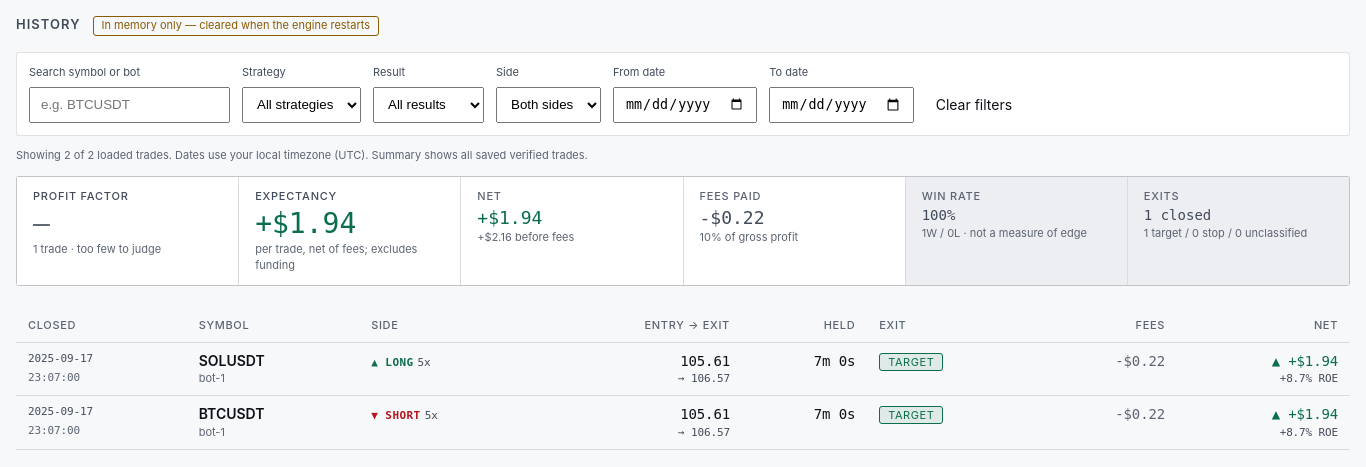
Test: combines search, strategy and side and explains invalid dates
This screenshot has width=1366, height=467.
Type "btc" into the search field labelled "Search symbol or bot" at {"x": 130, "y": 105}, box [29, 87, 230, 123]
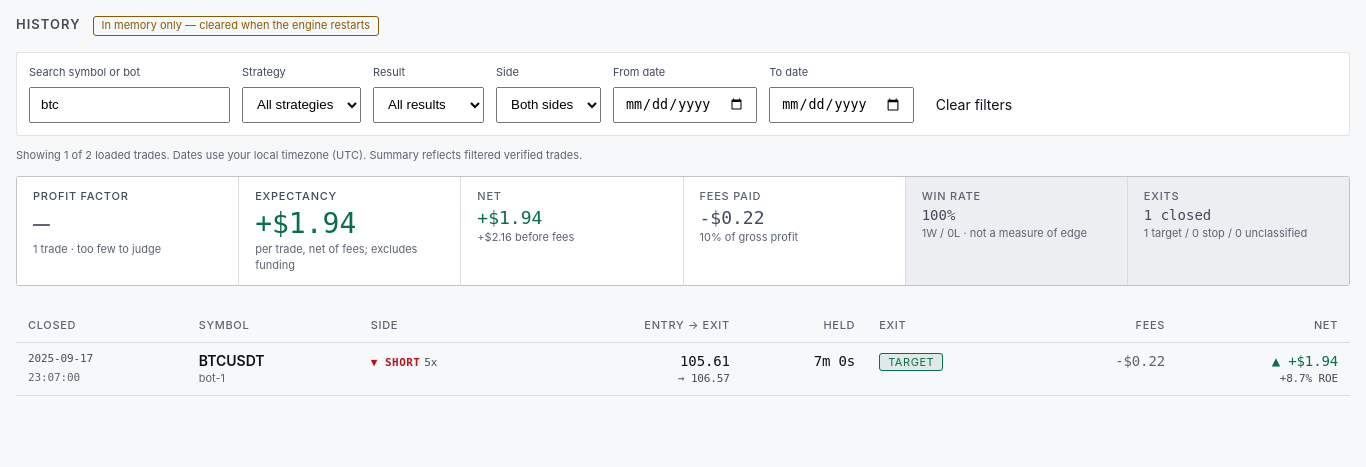
Select "other" in the dropdown labelled "Strategy" at {"x": 302, "y": 105}, box [242, 87, 361, 123]
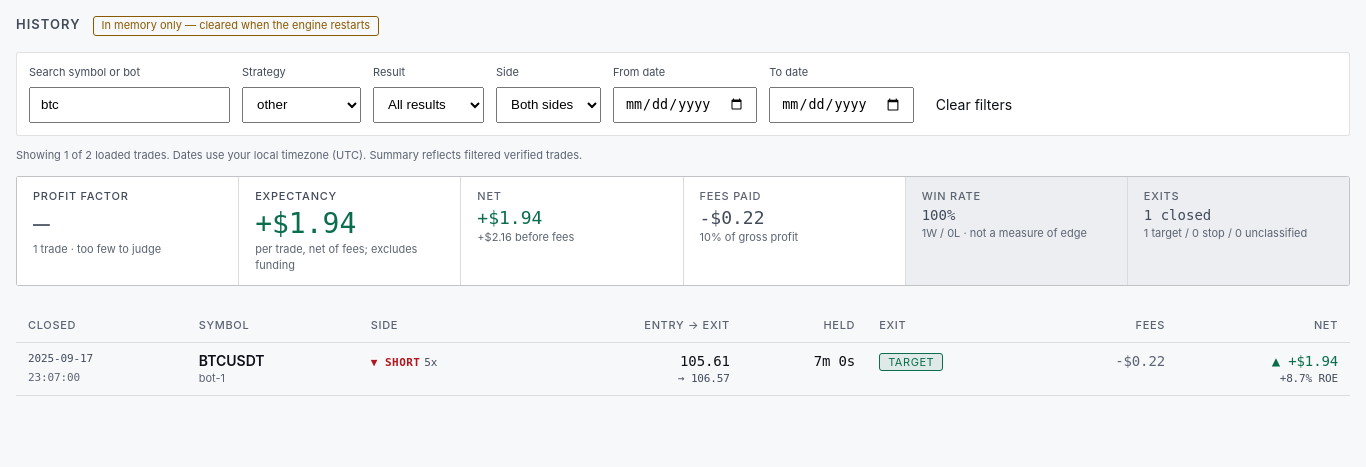
Select "Short" in the dropdown labelled "Side" at {"x": 548, "y": 105}, box [496, 87, 601, 123]
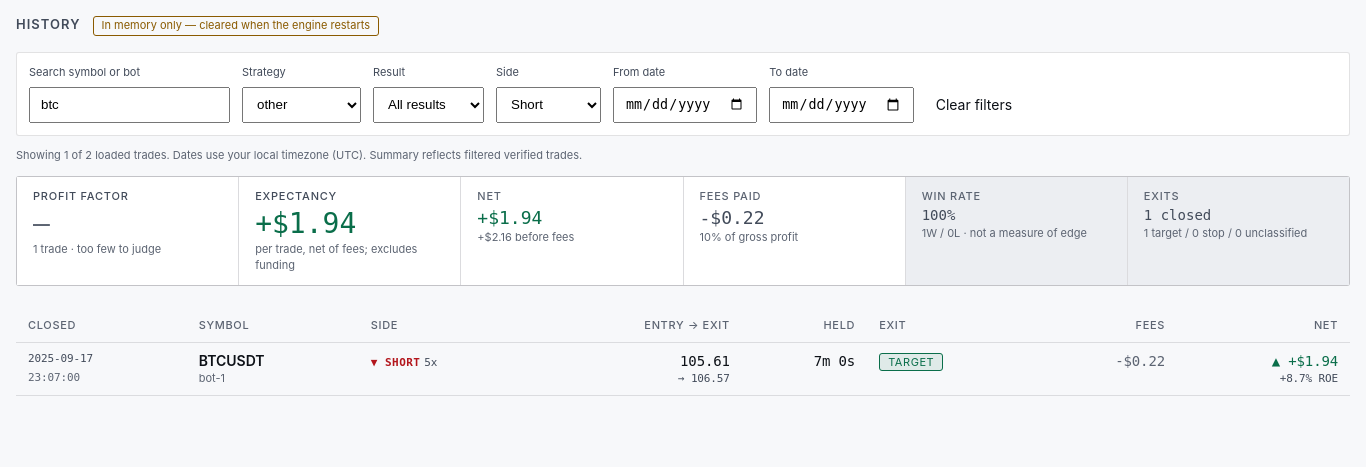
Expected: the text "BTCUSDT" is shown, [199, 352, 265, 369]
Expected: the text "SOLUSDT" is not shown
Type "2026-09-20" into the date field labelled "From date" at {"x": 685, "y": 105}, box [613, 87, 757, 123]
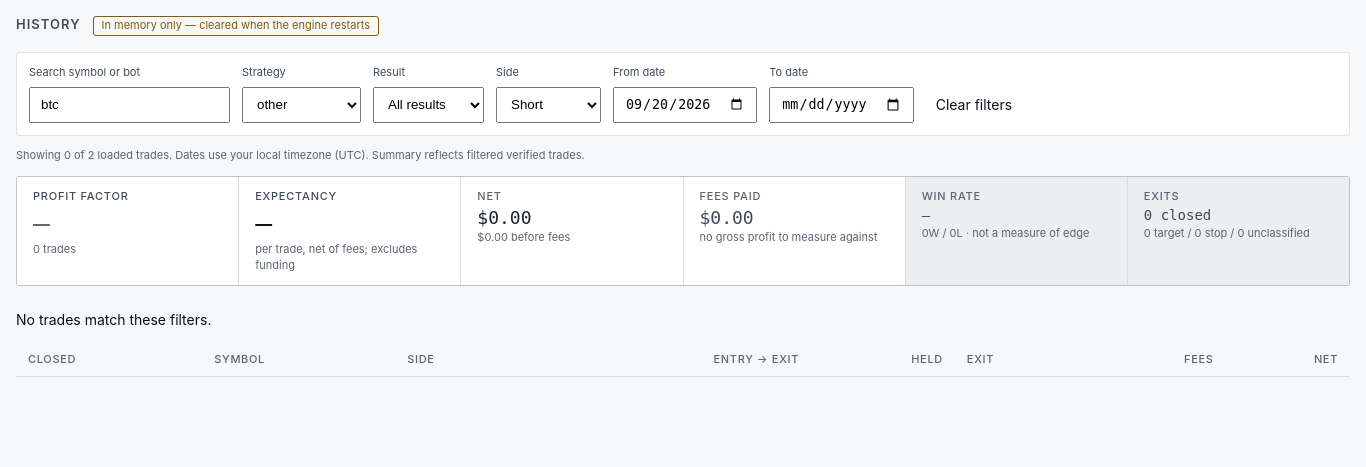
Type "2026-09-19" into the date field labelled "To date" at {"x": 841, "y": 105}, box [769, 87, 914, 123]
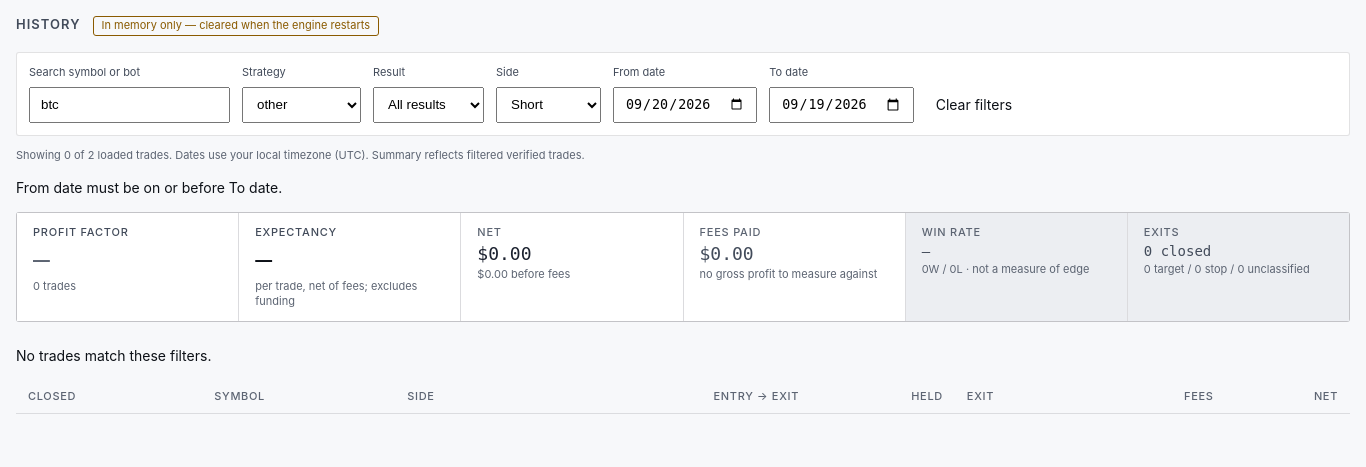
Result: the text "No trades match these filters." is shown at [16, 347, 211, 364]
Result: the message "From date must be on or before To date." is shown at [16, 179, 282, 196]
